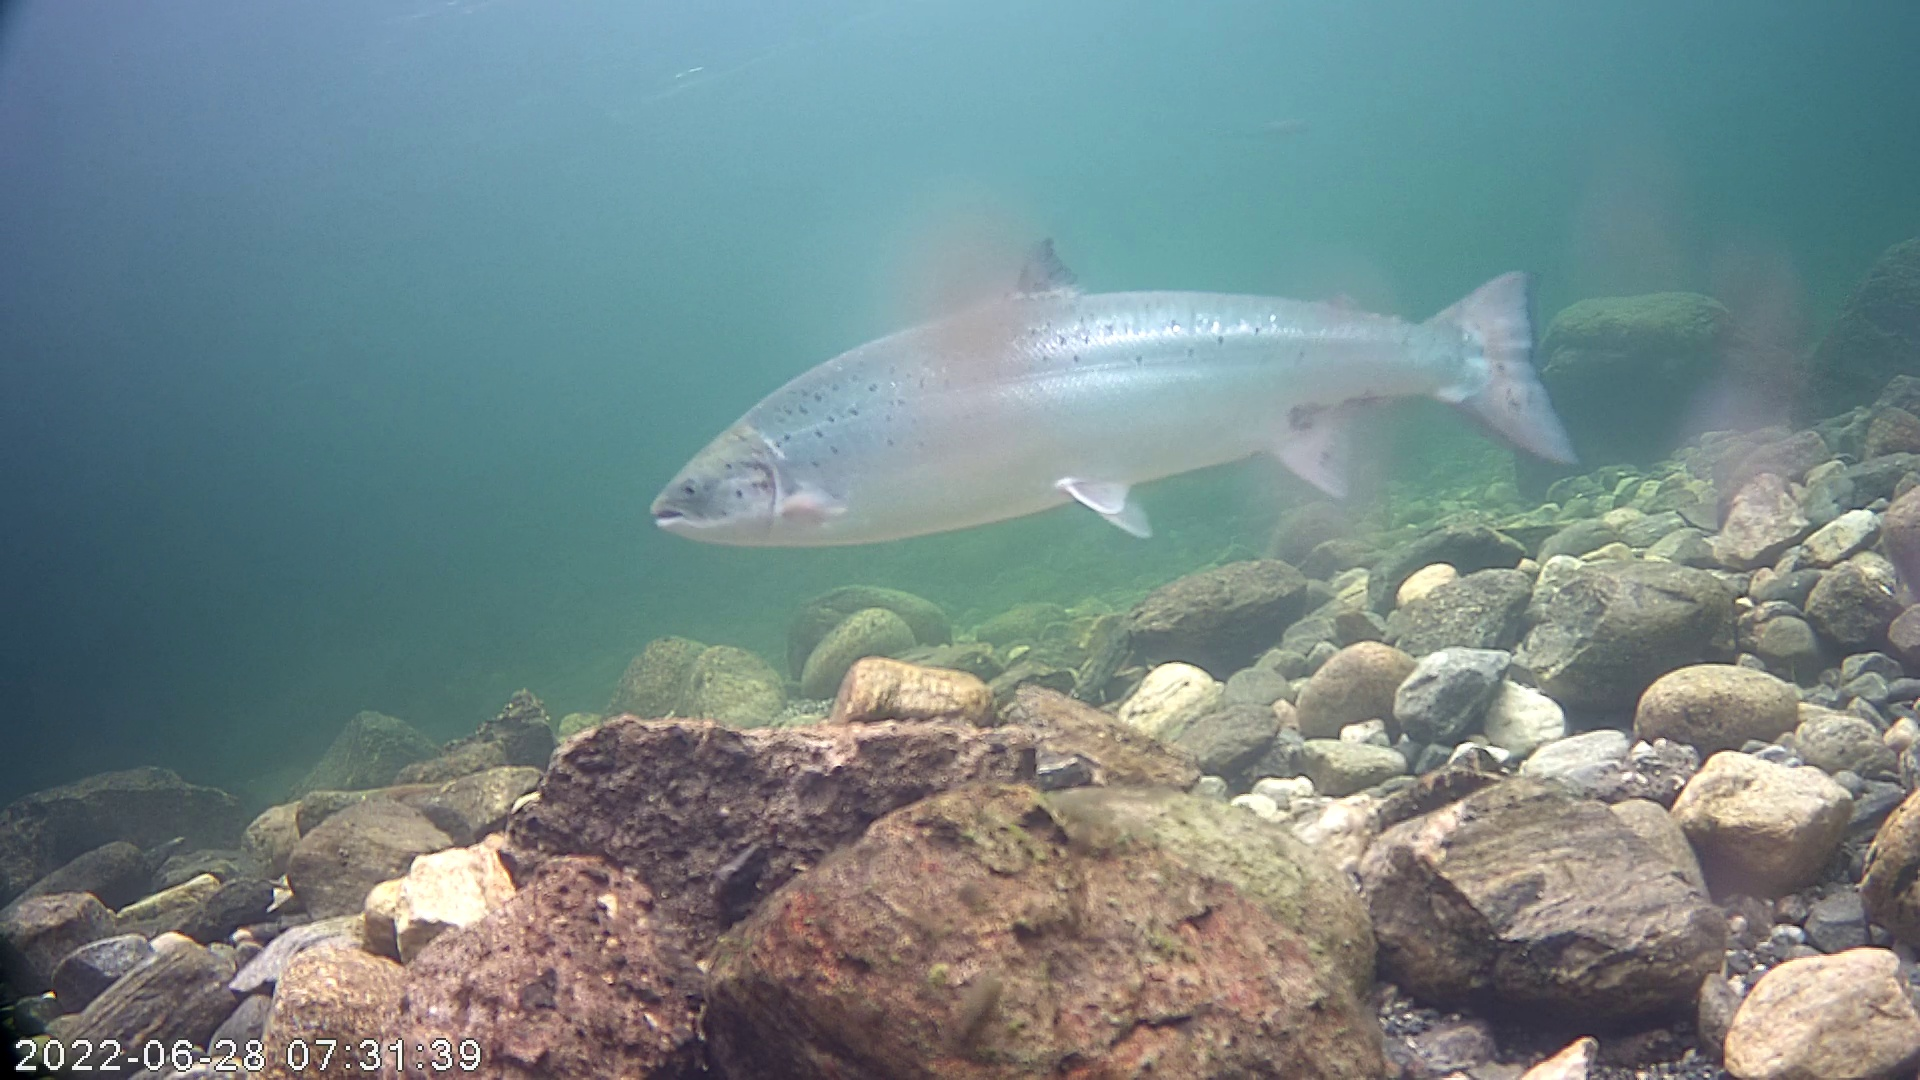salmon: (647, 160, 1598, 589)
